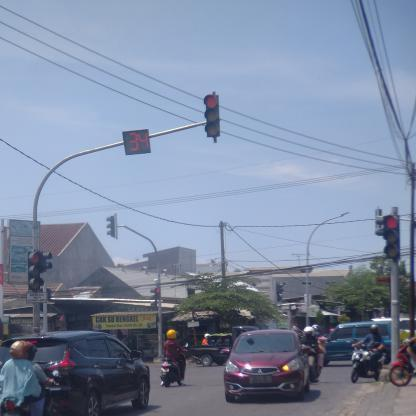red: (382, 215, 401, 258), (26, 250, 45, 292), (204, 93, 220, 138)
